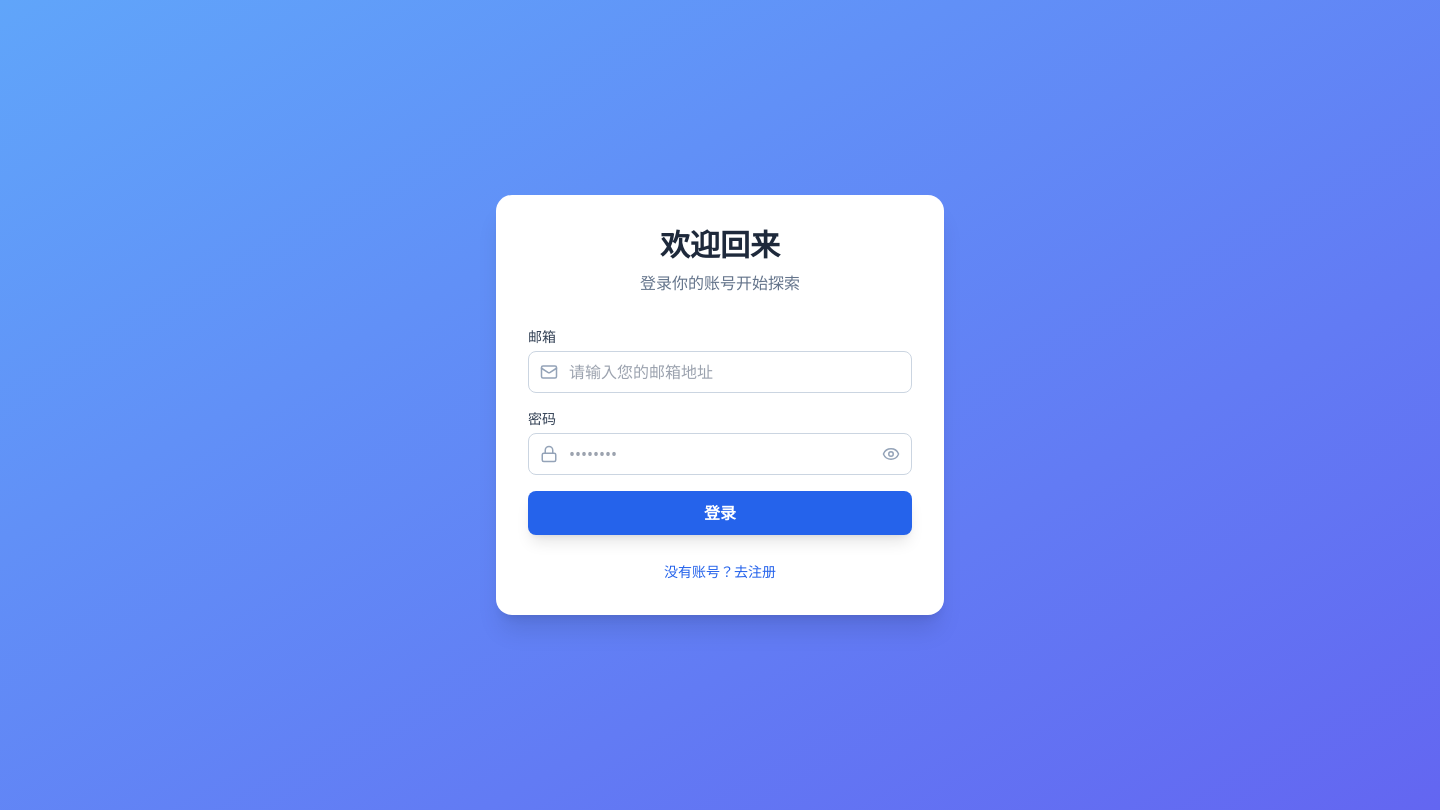
Test: Auth Component › validates password match on signup
Switch to signup
Click the button "没有账号？去注册": (720, 572) [664, 562, 776, 582]
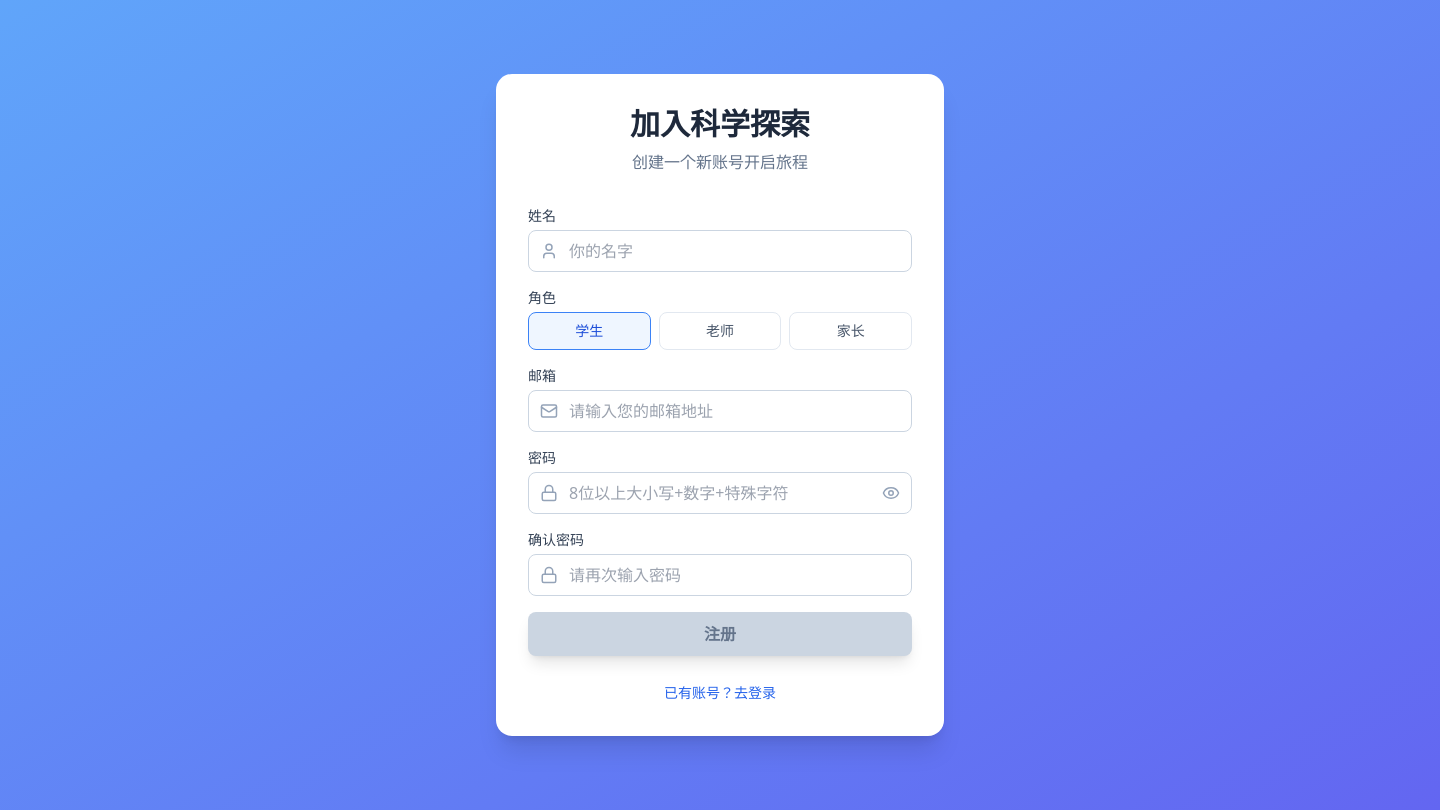
Fill form
In the field with placeholder "请输入您的邮箱地址": (720, 411) [528, 390, 912, 432], type "test@example.com"
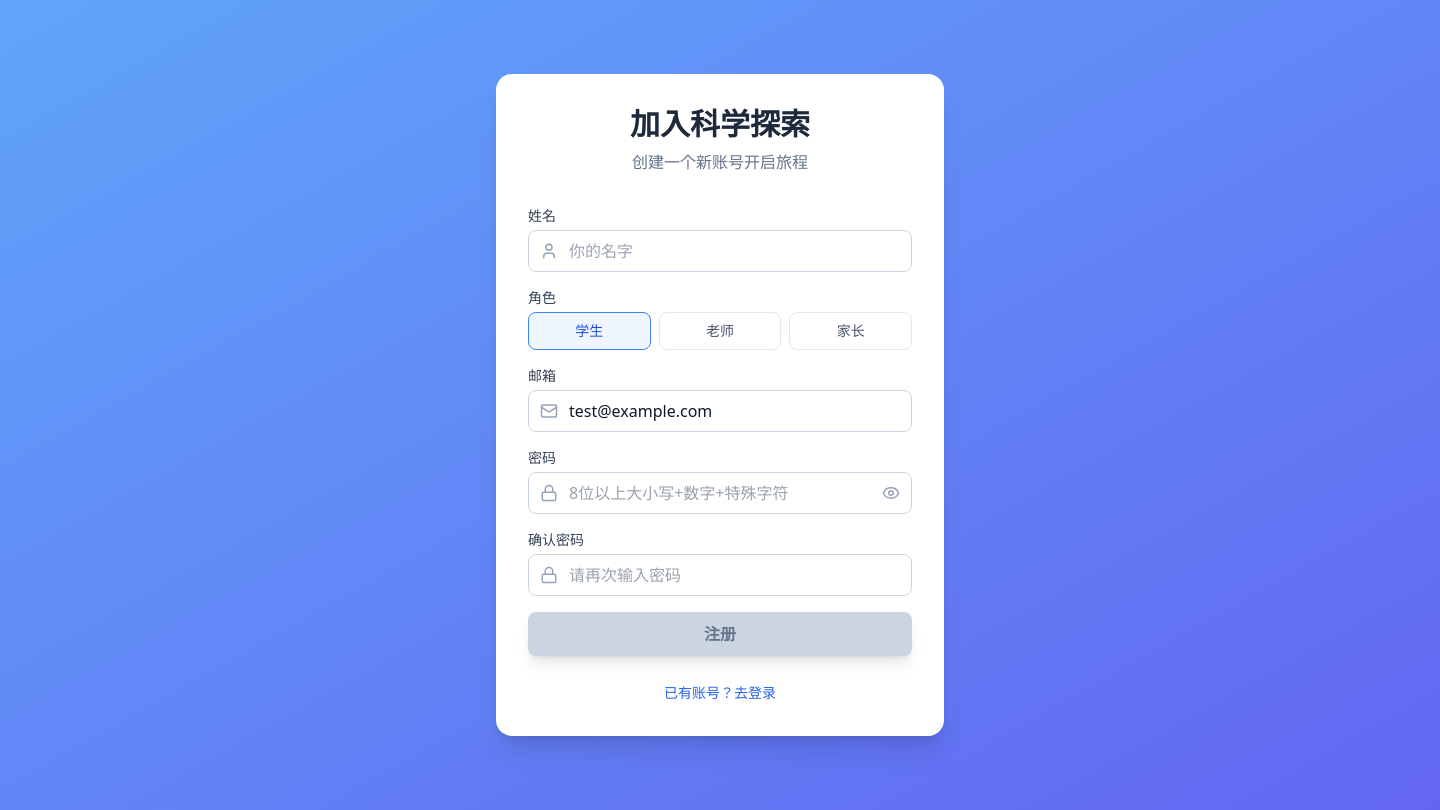
In the password field with placeholder "8位以上大小写+数字+特殊字符": (720, 493) [528, 472, 912, 514], type "Test@1234"
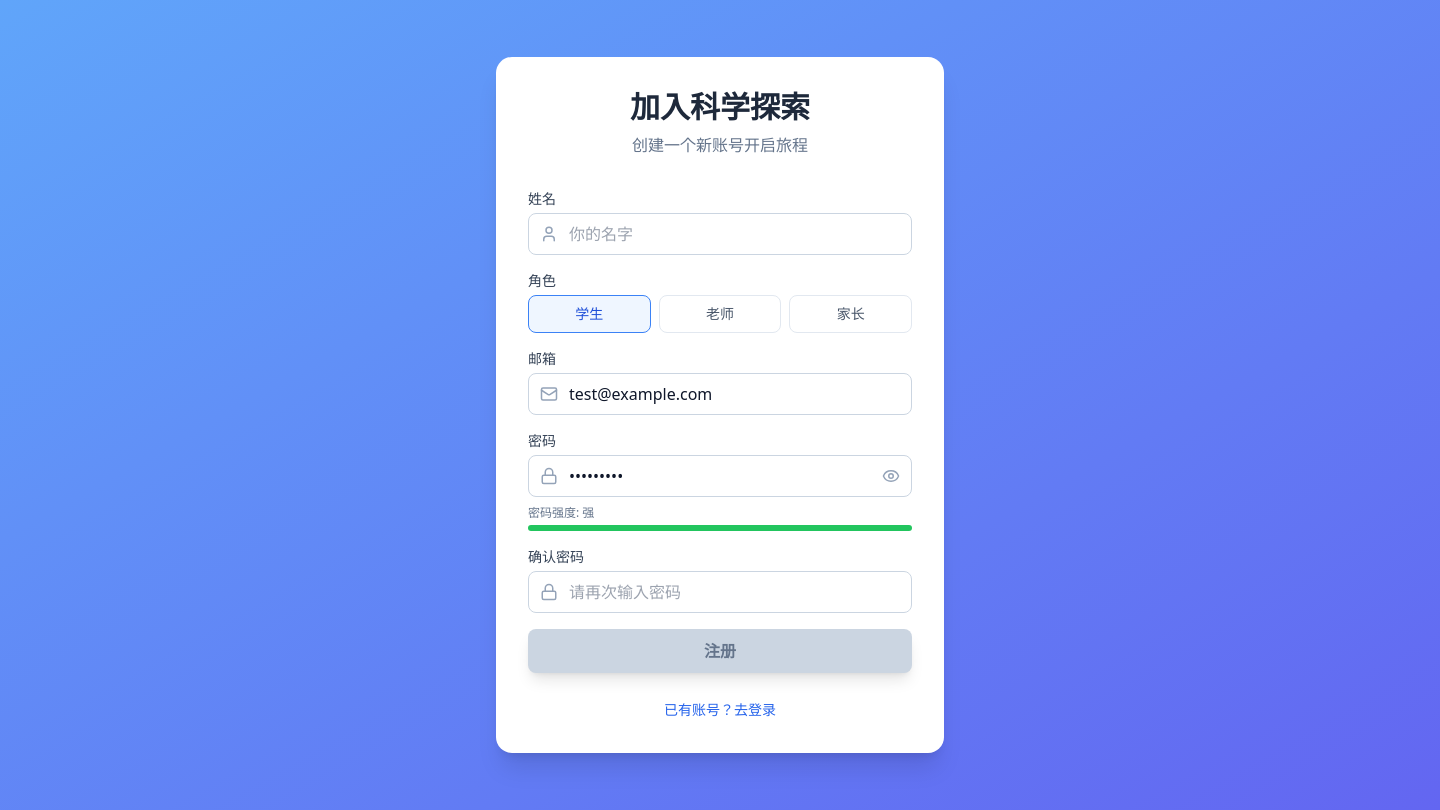
In the password field with placeholder "请再次输入密码": (720, 592) [528, 571, 912, 613], type "Test@123"
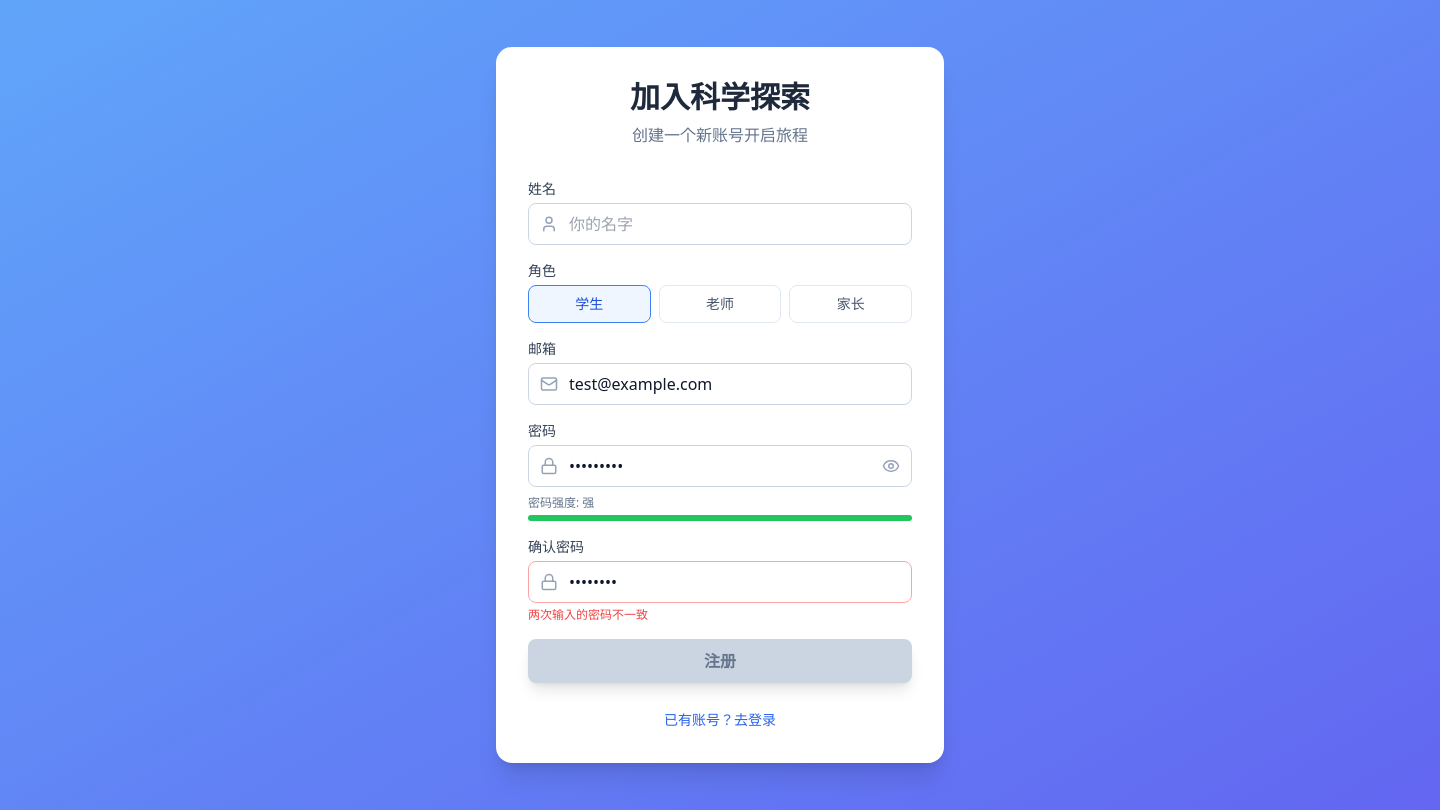
Now the button "注册" is disabled, box [528, 639, 912, 683]
Now the text "两次输入的密码不一致" is shown, box [528, 606, 648, 623]
